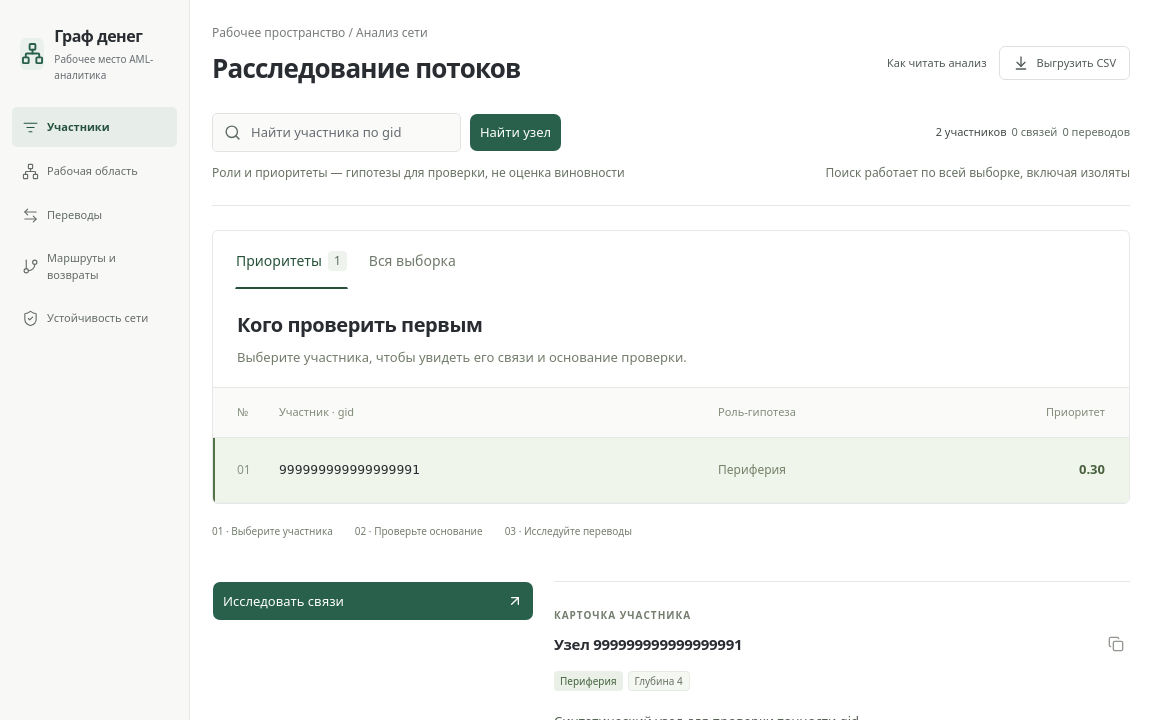
Test: cluster overview focuses results and member navigation uses the existing inspector
Click the button "Вся выборка": {"x": 412, "y": 268} [368,246,457,288]
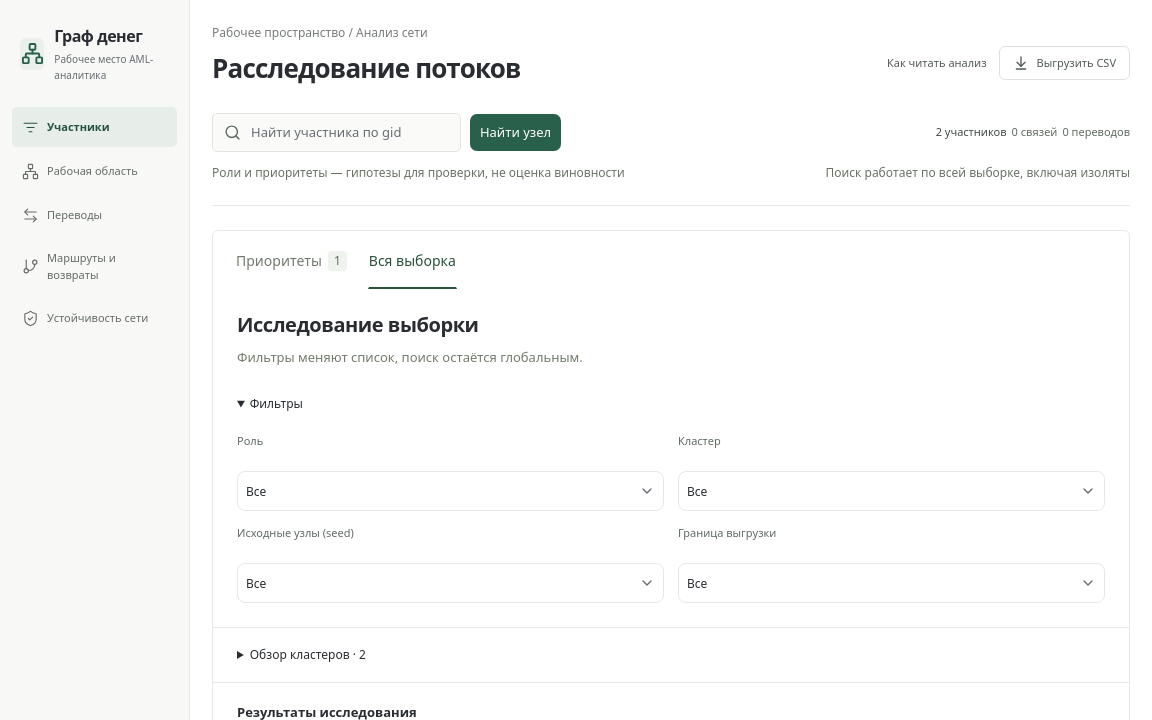
Click the heading "Обзор кластеров · 2": {"x": 308, "y": 655} [250,646,366,663]
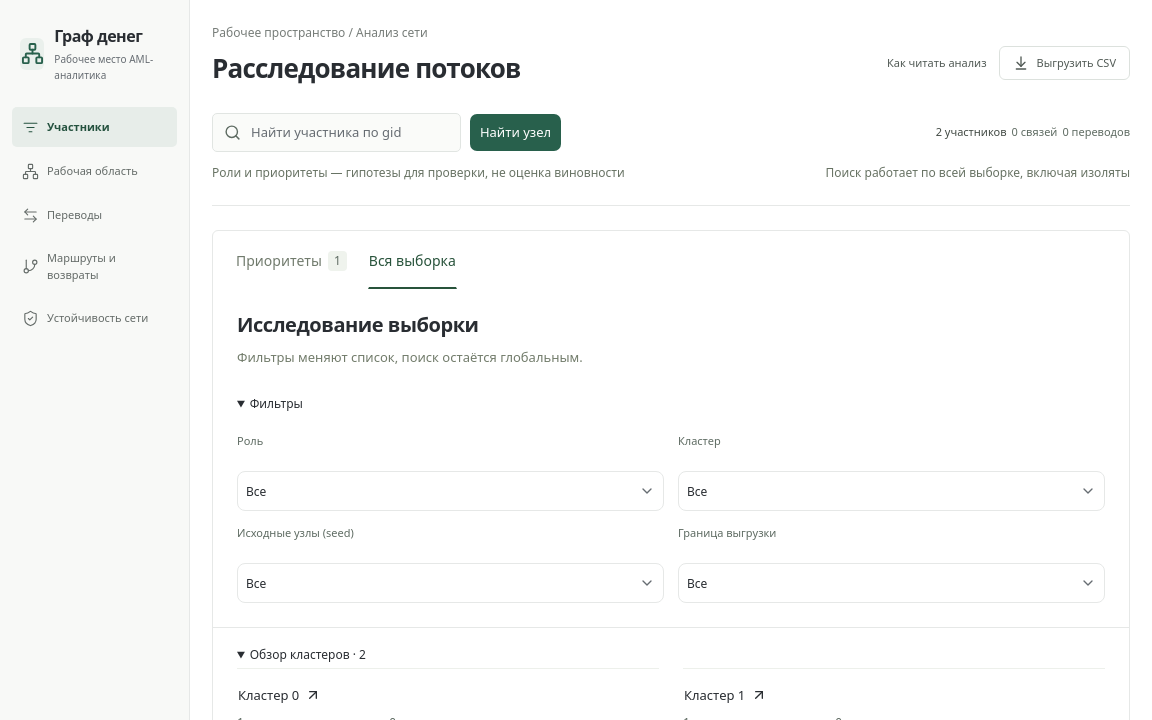
Click the button with aria-label "Исследовать кластер 1": {"x": 726, "y": 695} [683,679,768,711]
(page scrolled)
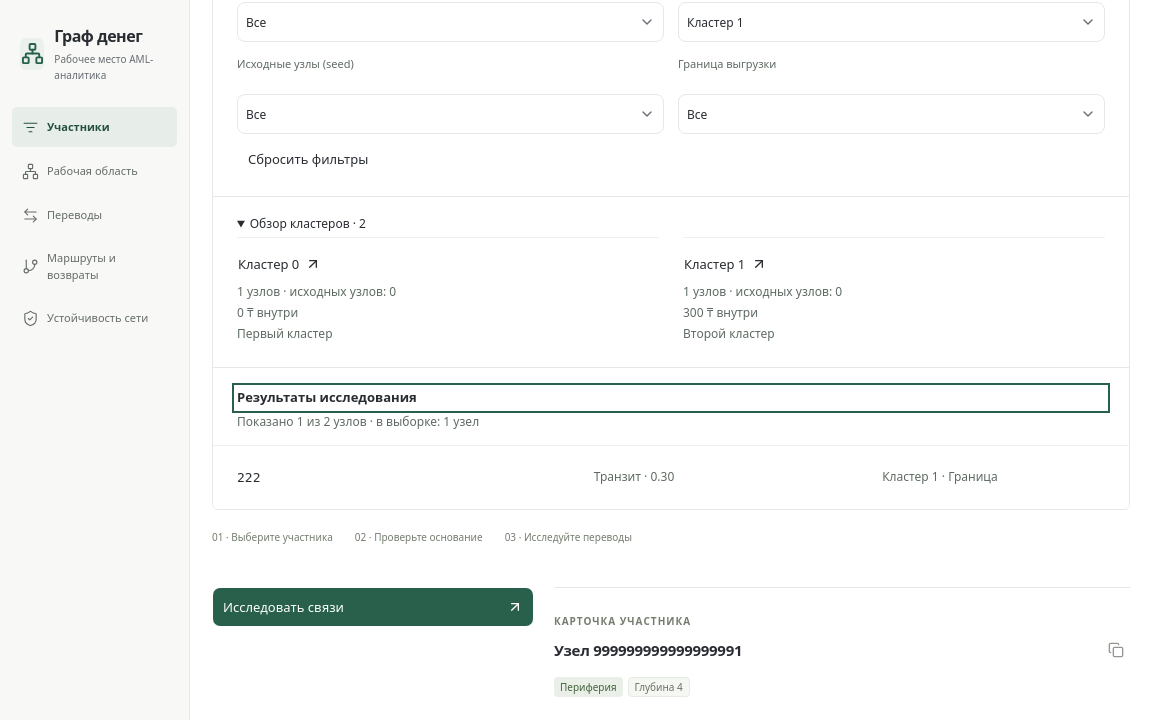
Check: the text "в выборке: 1 узел" is shown, box [367,413,479,430]
Check: the dropdown labelled "Кластер" reads "Кластер 1", box [678,2,1105,42]
Click the button with aria-label "Открыть узел 222": {"x": 671, "y": 477} [213,445,1129,509]
(page scrolled)
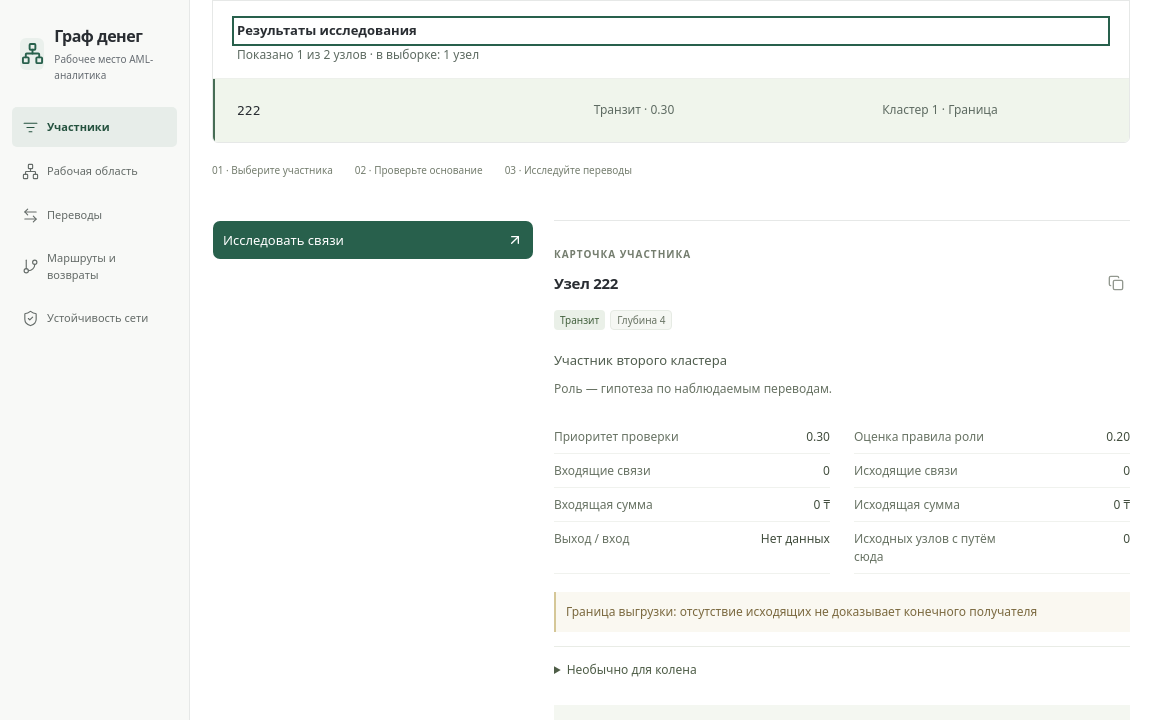
Check: the heading "Узел 222" is shown, box [554,273,618,293]
Check: the text "Участник второго кластера" is shown, box [554,351,727,369]
